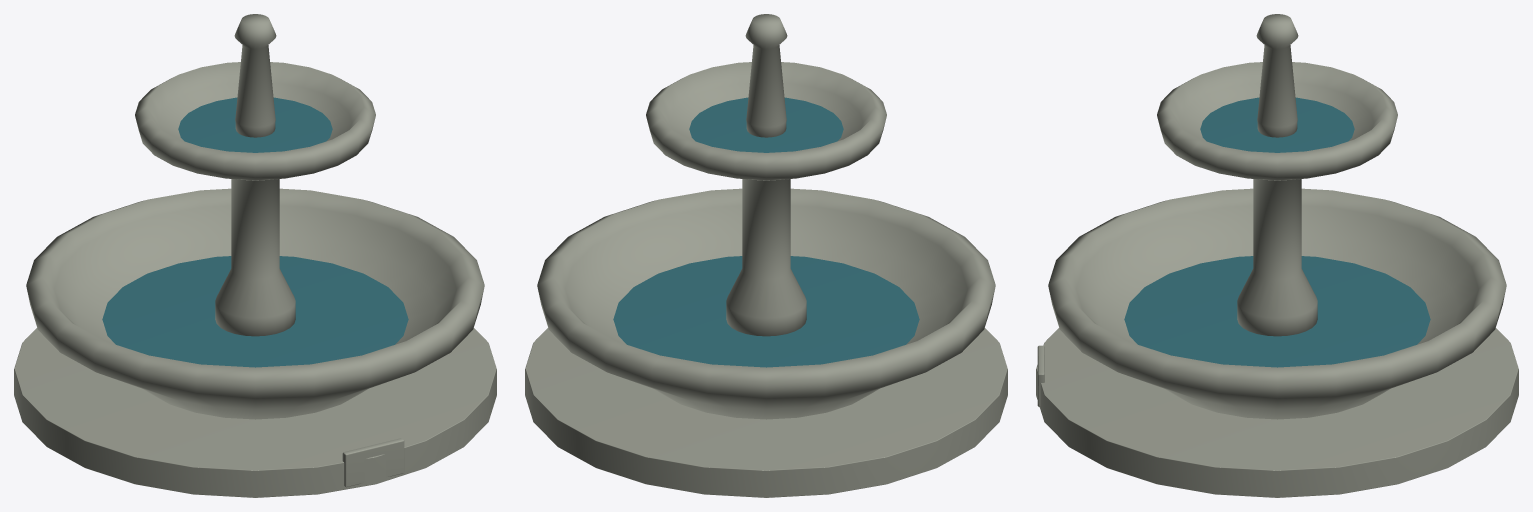
Rendered from S053_tiered_fountain_rebuilt.glb.
3 views of the same model, side by side, from view 1: azimuth 30°, elevation 25°; view 2: azimuth 150°, elevation 25°; view 3: azimuth 270°, elevation 25° (orthographic).
Visible parts, largest first — view 1: Weathered_light_stone, Still_scenic_bluegreen_water; view 2: Weathered_light_stone, Still_scenic_bluegreen_water; view 3: Weathered_light_stone, Still_scenic_bluegreen_water.
Part boxes in pixels (x1,y1,x2,y2): Weathered_light_stone: [14, 14, 496, 497]; Still_scenic_bluegreen_water: [102, 97, 408, 367]; Weathered_light_stone: [525, 14, 1007, 497]; Still_scenic_bluegreen_water: [613, 97, 919, 367]; Weathered_light_stone: [1036, 14, 1518, 497]; Still_scenic_bluegreen_water: [1124, 97, 1430, 367].
Size of the model in its own units: 2 by 1.72 by 2.
